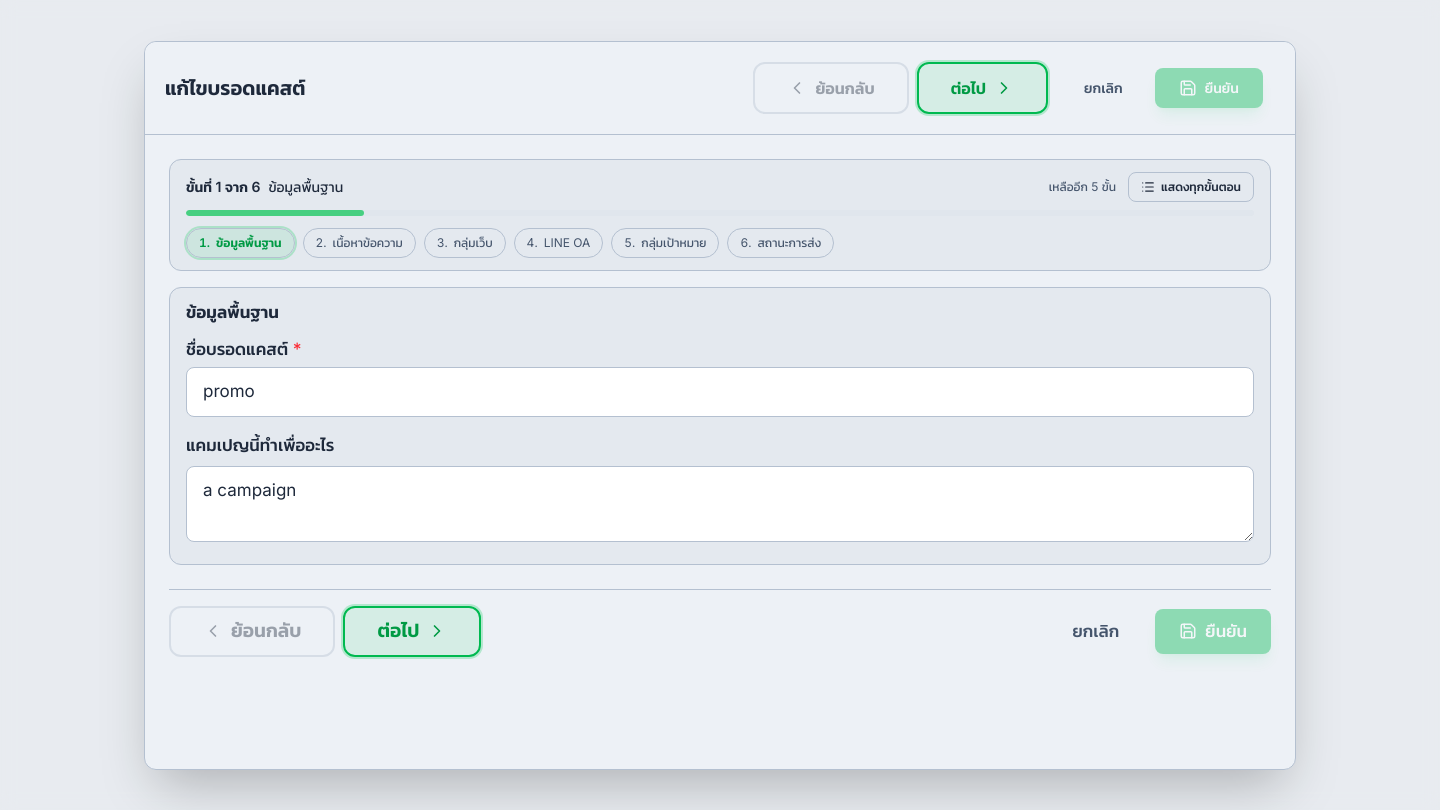
Test: the form — switching to Broadcast says what happened › ⭐ the clear button empties the rules, and only when pressed
Click the button with test id "-toggle" at (1191, 186), box [1128,172,1254,202]
(page scrolled)
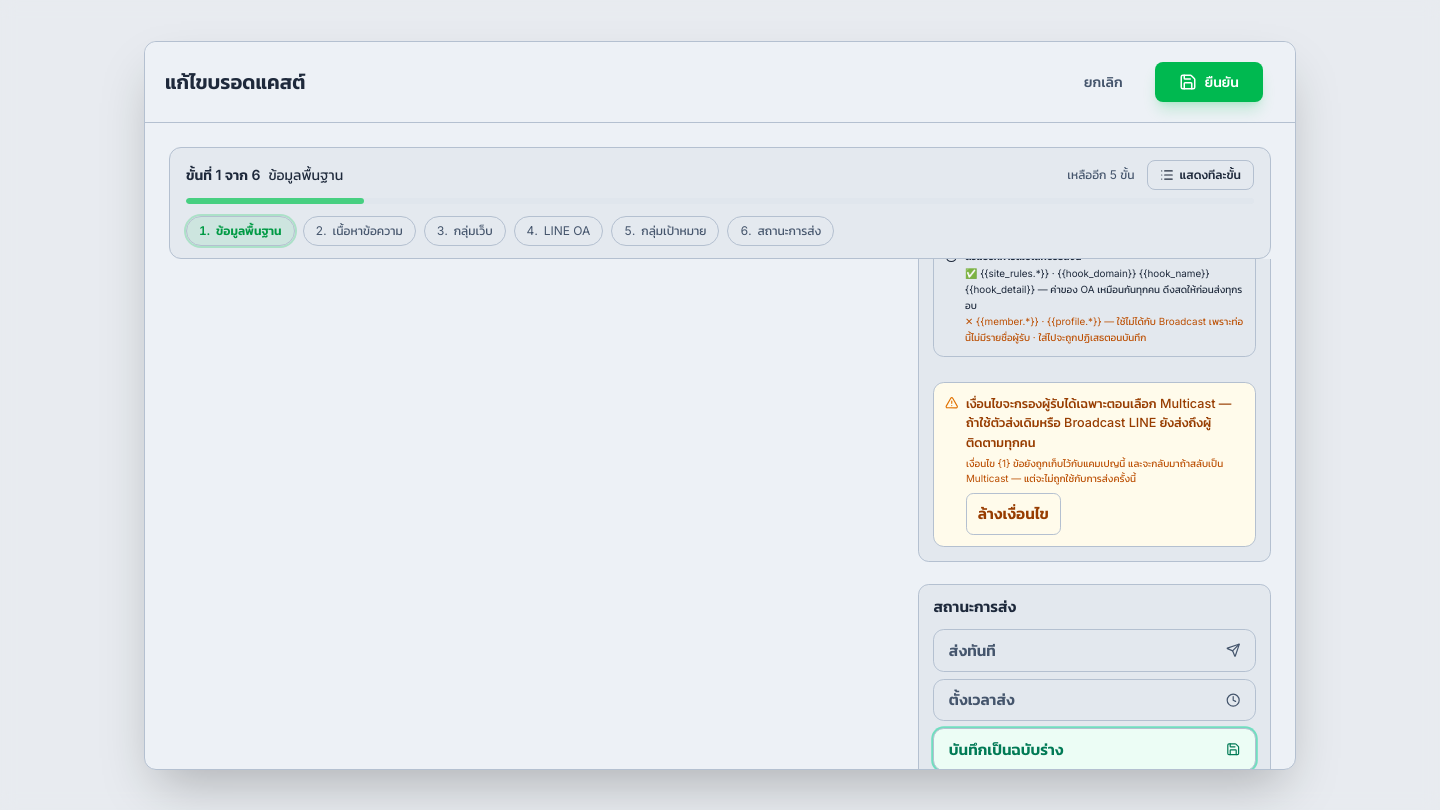
Now the element with test id "audience-kept-notice" is shown, box [934,382,1256,547]
Now the button with test id "audience-clear-rules" is shown
Click the button with test id "audience-clear-rules" at (1013, 514), box [966,493,1060,535]
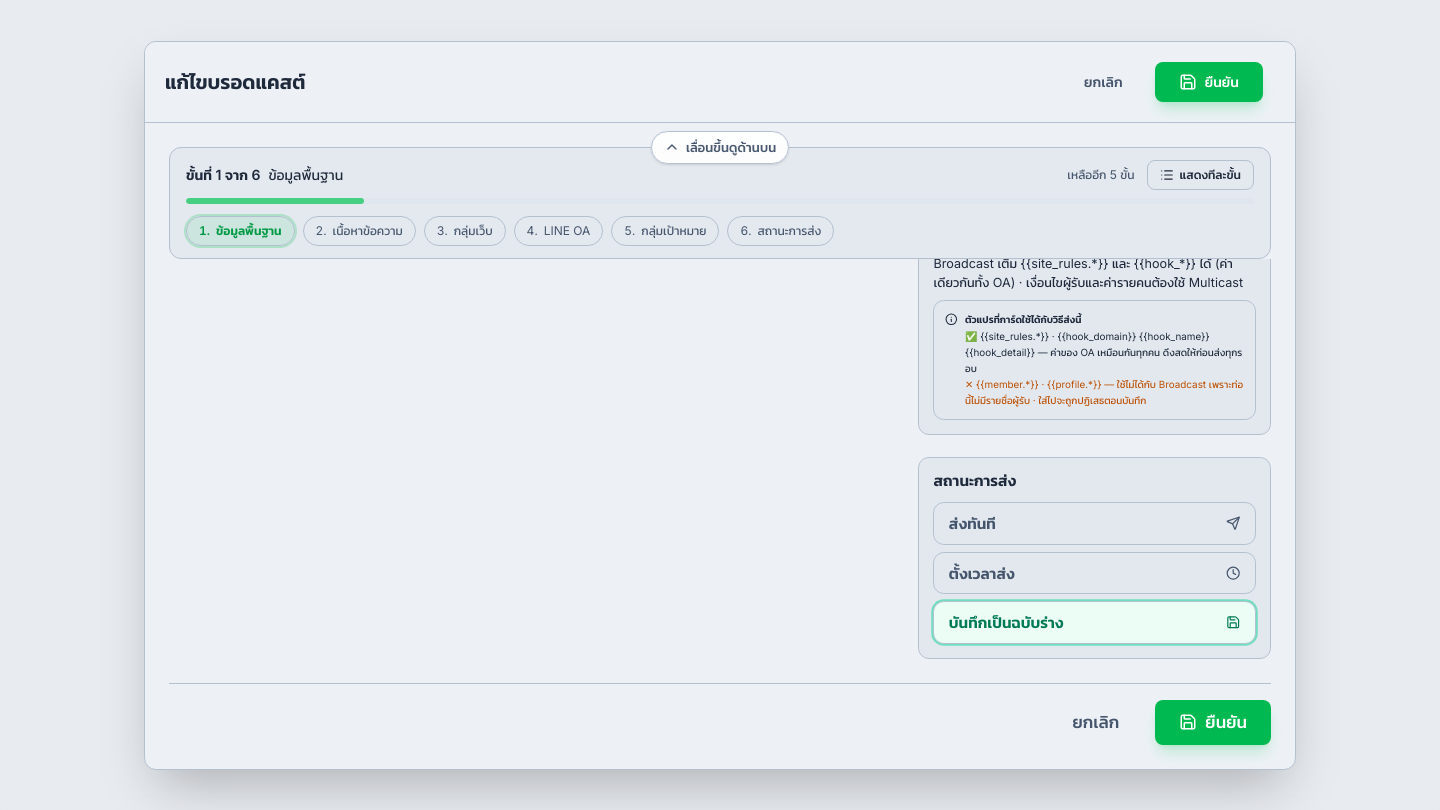
Now the element with test id "audience-kept-notice" is gone
